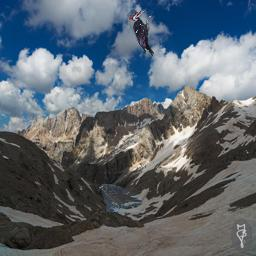Crow: (99, 184, 142, 212)
Woodpecker: (129, 8, 154, 56)
